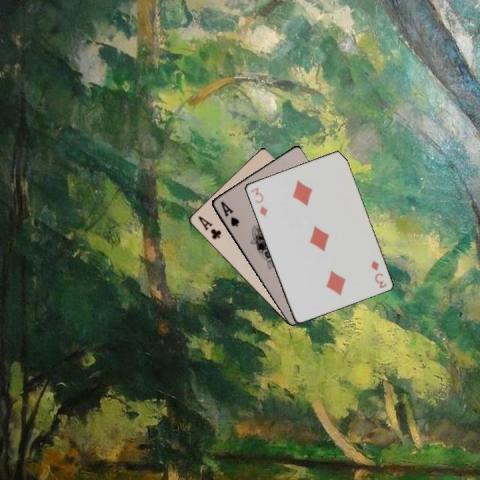3d: (248, 185, 268, 217), (368, 258, 388, 290)
Ac: (195, 213, 222, 241)
As: (217, 198, 241, 228)
